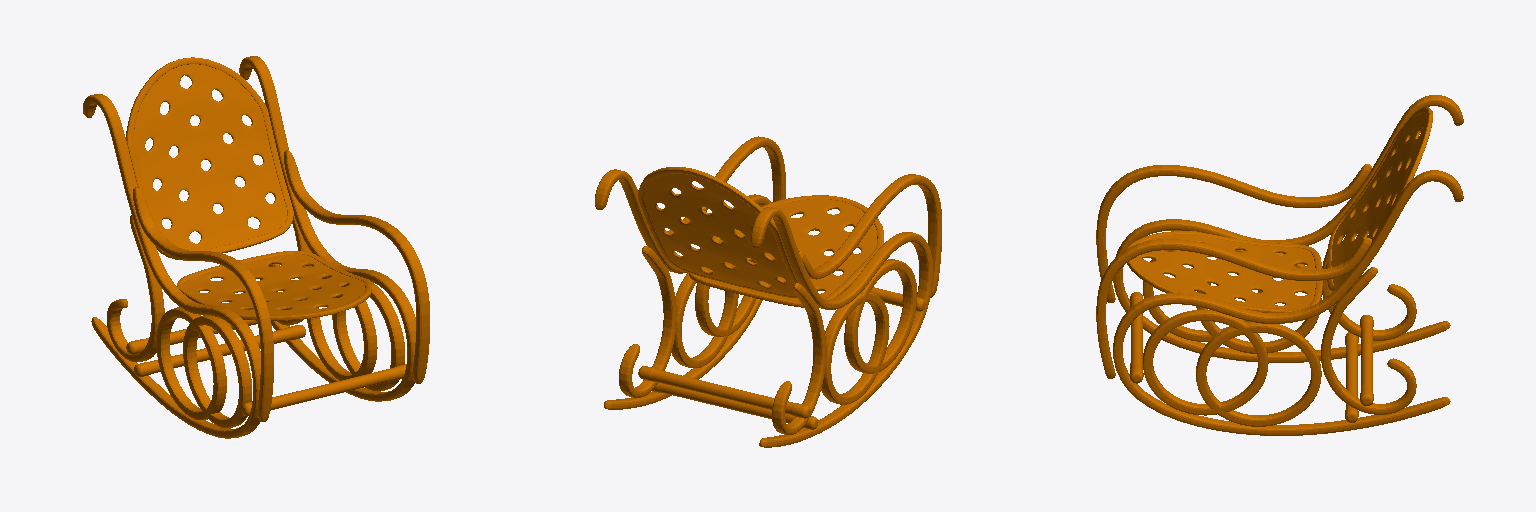
Rendered from R_Chair1_low.obj.
The picture shows the model from 3 angles: view 1: azimuth 30°, elevation 25°; view 2: azimuth 150°, elevation 25°; view 3: azimuth 270°, elevation 25°; orthographic projection.
Visible parts, largest first — view 1: r_chair_01_Plane; view 2: r_chair_01_Plane; view 3: r_chair_01_Plane.
Part boxes in pixels (left/top/right/bottom): r_chair_01_Plane: left=83, top=56, right=429, bottom=438; r_chair_01_Plane: left=595, top=136, right=941, bottom=447; r_chair_01_Plane: left=1096, top=95, right=1463, bottom=435.
Bounding box in the file's own units: 1.05 × 1.68 × 1.97.